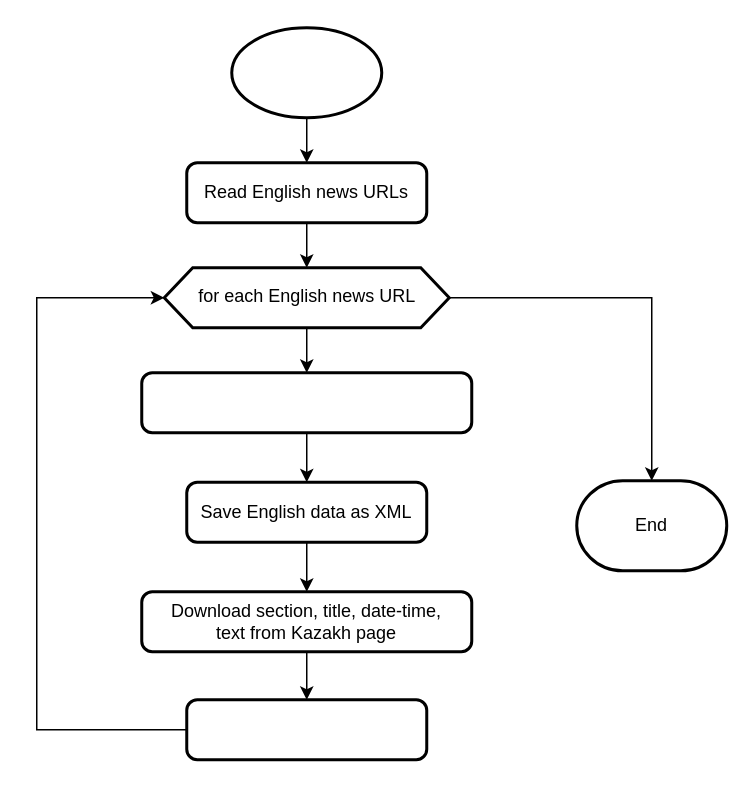
The diagram is 755 pixels wide and 786 high, and some of its shapes have lost their labels. The shapes that lost their labels are listed below. From the top down, each one's centre as x and y in pixels, then its label:
point 306,72: Begin
point 306,402: Download section, title, date-time, text, Kazakh URL from English page
point 306,729: Save Kazakh data as XML
